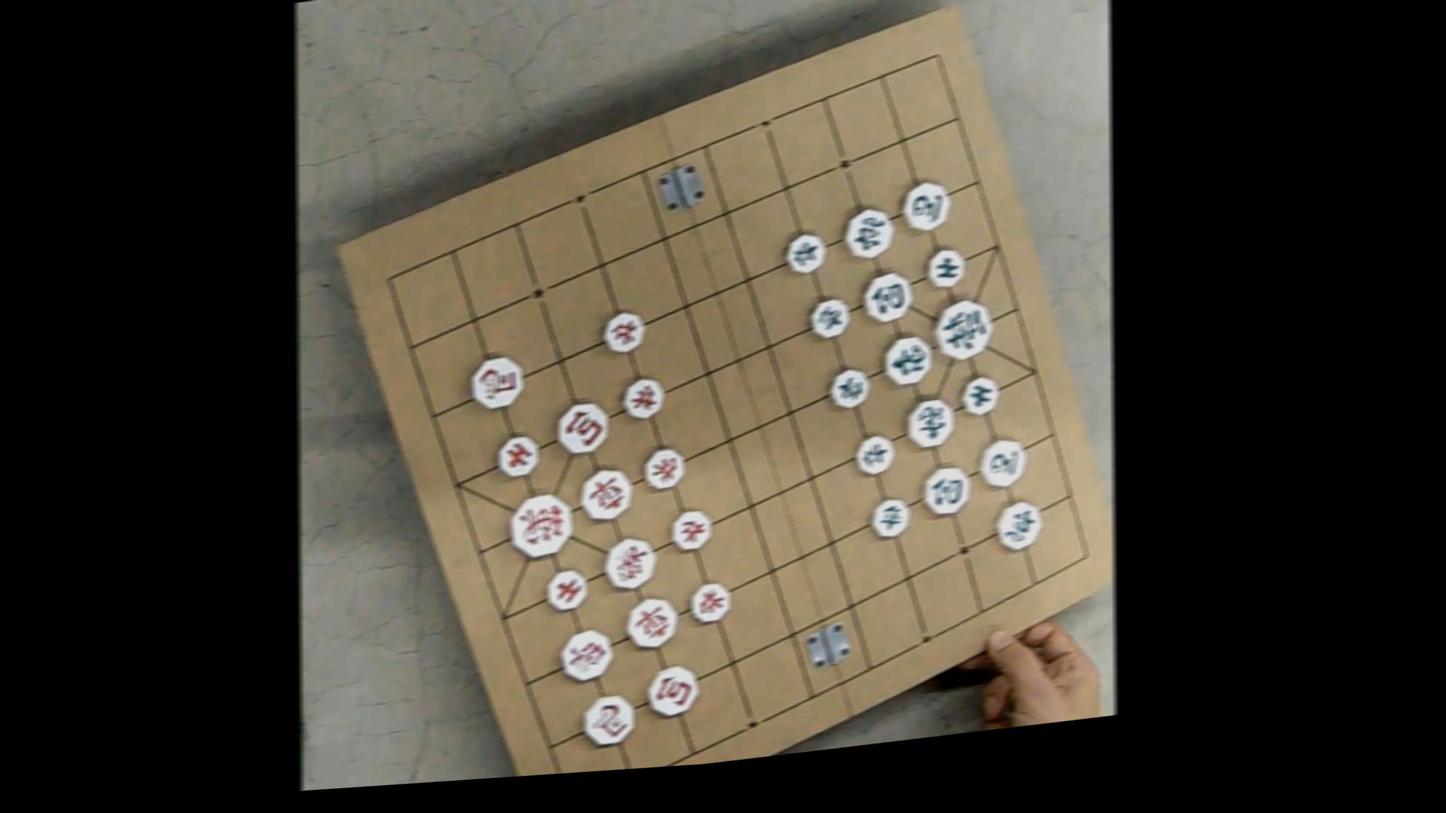cha_green: (840, 204, 895, 260), (993, 501, 1043, 552)
cha_red: (624, 595, 679, 650), (578, 467, 633, 522)
jol_green: (783, 230, 827, 275), (807, 297, 851, 340), (827, 367, 870, 410), (868, 498, 911, 540), (853, 434, 895, 475)
jol_red: (668, 507, 713, 552), (642, 446, 687, 491), (621, 376, 666, 421), (688, 580, 732, 625), (601, 309, 645, 354)
ma_green: (899, 179, 952, 233), (976, 437, 1027, 489)
ma_red: (468, 355, 525, 410), (580, 694, 636, 747)
po_green: (860, 270, 914, 323), (920, 464, 972, 518)
po_red: (554, 400, 609, 456), (645, 664, 699, 718)
sa_green: (923, 247, 966, 289), (959, 376, 1001, 417)
sa_red: (496, 434, 541, 480), (545, 568, 589, 614)
sang_green: (880, 333, 934, 387), (903, 396, 956, 449)
sang_red: (602, 536, 657, 592), (559, 629, 614, 683)
wang_green: (929, 297, 995, 363)
wang_red: (506, 492, 575, 561)
